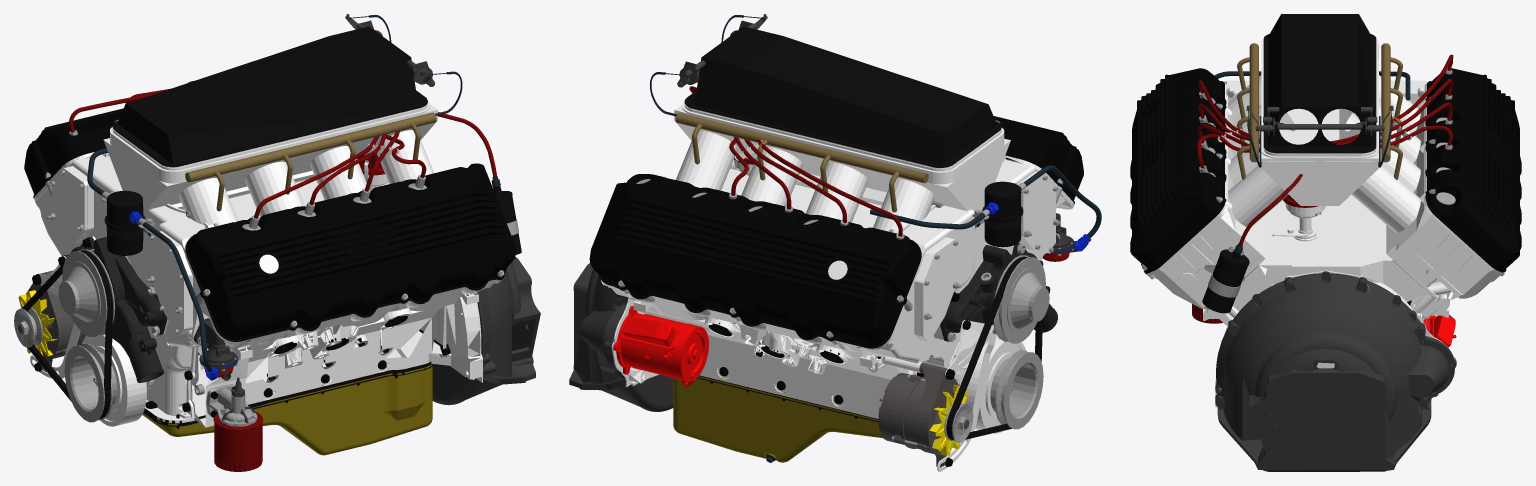
The model's file is engine-v8.glb.
3 views of the same model, side by side, from view 1: azimuth 30°, elevation 25°; view 2: azimuth 150°, elevation 25°; view 3: azimuth 270°, elevation 25° (orthographic). The views are drawn at different scales.
Visible parts, largest first — view 1: Object_10, Object_4, Object_43, Object_18, Object_6, Object_31, Object_20, Object_8, Object_67, Object_73, Object_16, Object_58 (+6 smaller); view 2: Object_10, Object_4, Object_43, Object_18, Object_6, Object_20, Object_27, Object_25, Object_31, Object_73, Object_67, Object_8 (+6 smaller); view 3: Object_10, Object_20, Object_4, Object_43, Object_8, Object_73, Object_31, Object_6, Object_65, Object_16, Object_27.
Part boxes in pixels (bbox=[...]): Object_10: bbox=[30, 101, 501, 427]; Object_4: bbox=[24, 108, 515, 341]; Object_43: bbox=[112, 26, 427, 167]; Object_18: bbox=[142, 364, 434, 455]; Object_6: bbox=[14, 130, 518, 426]; Object_31: bbox=[21, 185, 521, 426]; Object_20: bbox=[476, 257, 540, 383]; Object_8: bbox=[69, 81, 497, 471]; Object_67: bbox=[63, 236, 167, 382]; Object_73: bbox=[114, 112, 436, 211]; Object_16: bbox=[87, 15, 500, 372]; Object_58: bbox=[432, 364, 525, 405]; Object_10: bbox=[601, 102, 1074, 471]; Object_4: bbox=[589, 116, 1083, 348]; Object_43: bbox=[684, 26, 1001, 167]; Object_18: bbox=[673, 376, 882, 462]; Object_6: bbox=[636, 168, 1061, 442]; Object_20: bbox=[569, 263, 628, 389]; Object_27: bbox=[613, 306, 708, 386]; Object_25: bbox=[878, 362, 969, 467]; Object_31: bbox=[697, 181, 1042, 440]; Object_73: bbox=[675, 113, 1000, 212]; Object_67: bbox=[940, 243, 1057, 341]; Object_8: bbox=[689, 86, 902, 236]; Object_10: bbox=[1146, 39, 1504, 407]; Object_20: bbox=[1215, 271, 1456, 471]; Object_4: bbox=[1130, 68, 1521, 273]; Object_43: bbox=[1263, 14, 1376, 153]; Object_8: bbox=[1192, 54, 1453, 323]; Object_73: bbox=[1237, 43, 1402, 179]; Object_31: bbox=[1202, 249, 1249, 313]; Object_6: bbox=[1199, 69, 1455, 298]; Object_65: bbox=[1246, 105, 1393, 135]; Object_16: bbox=[1214, 71, 1410, 253]; Object_27: bbox=[1423, 314, 1456, 358].
Size of the model in its own units: 1.3 by 1.08 by 1.1.
